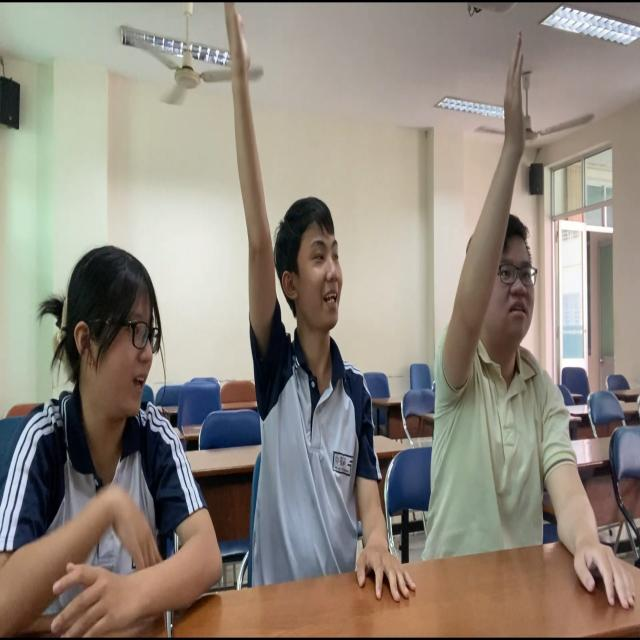raise_hand: (413, 17, 640, 634), (205, 1, 418, 616)
